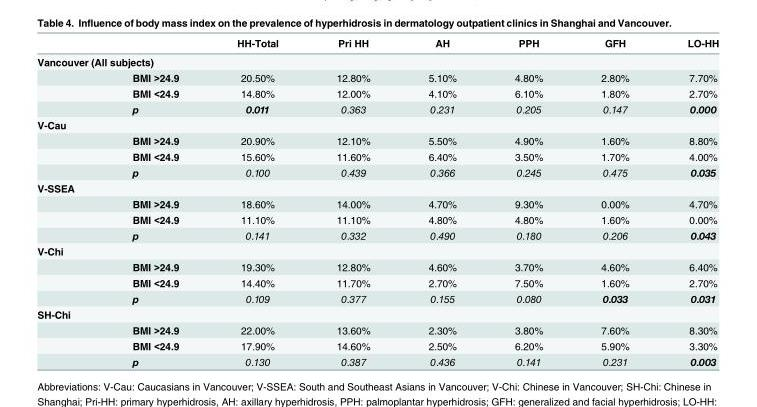table: (36, 36, 718, 367)
table column: (102, 36, 207, 367), (207, 36, 306, 367), (306, 36, 398, 367), (398, 36, 485, 367), (485, 36, 571, 367), (571, 36, 657, 367), (36, 36, 102, 367), (657, 36, 718, 367)
table column header: (36, 36, 718, 51)
table projected row header: (36, 51, 718, 69), (36, 117, 718, 132), (36, 180, 718, 195), (36, 243, 718, 258), (36, 306, 718, 321)
table row: (36, 51, 718, 69), (36, 100, 718, 117), (36, 69, 718, 85), (36, 132, 718, 148), (36, 148, 718, 164), (36, 164, 718, 180), (36, 195, 718, 211), (36, 211, 718, 227), (36, 227, 718, 243), (36, 258, 718, 274), (36, 274, 718, 290), (36, 290, 718, 306), (36, 321, 718, 337), (36, 337, 718, 353), (36, 36, 718, 51), (36, 85, 718, 100), (36, 117, 718, 132), (36, 180, 718, 195), (36, 243, 718, 258), (36, 306, 718, 321), (36, 353, 718, 367)
